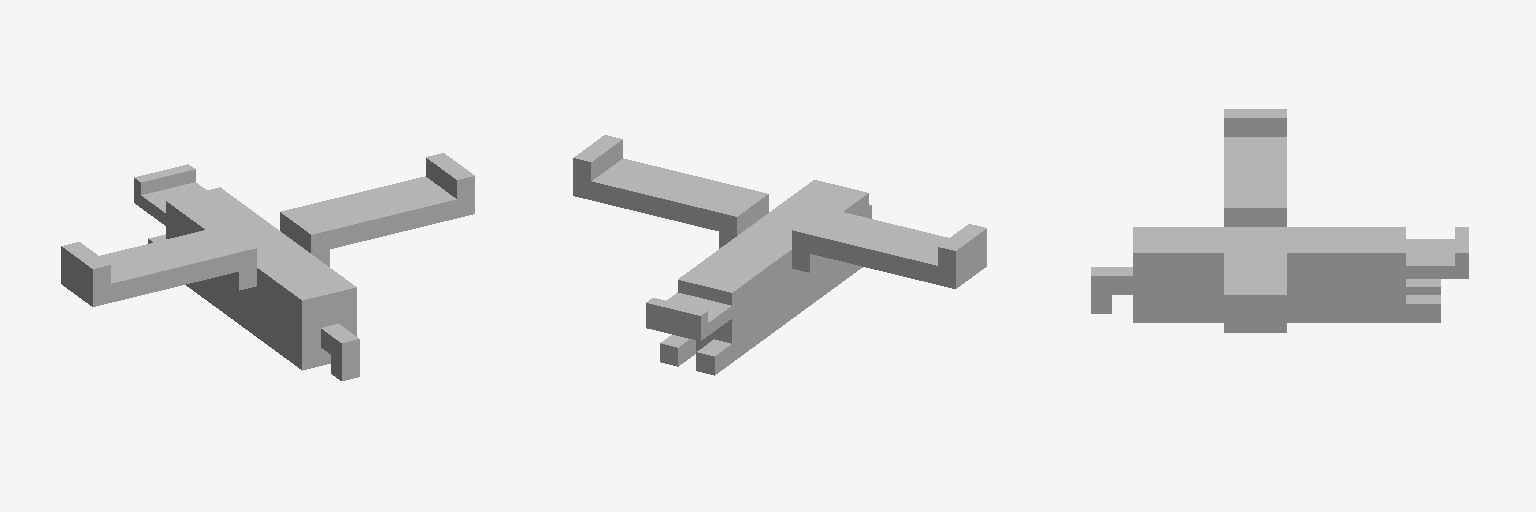
File: eagle.obj
3 views of the same model, side by side, from view 1: azimuth 30°, elevation 25°; view 2: azimuth 150°, elevation 25°; view 3: azimuth 270°, elevation 25° (orthographic).
Visible parts, largest first — view 1: object 1; view 2: object 1; view 3: object 1.
Boxes of the visible parts, box(x1,y1,x2,y2) form: object 1: box(61, 153, 474, 380); object 1: box(573, 135, 986, 375); object 1: box(1091, 109, 1468, 332).
Bounding box in the file's own units: 6.3 × 1.7 × 5.4.